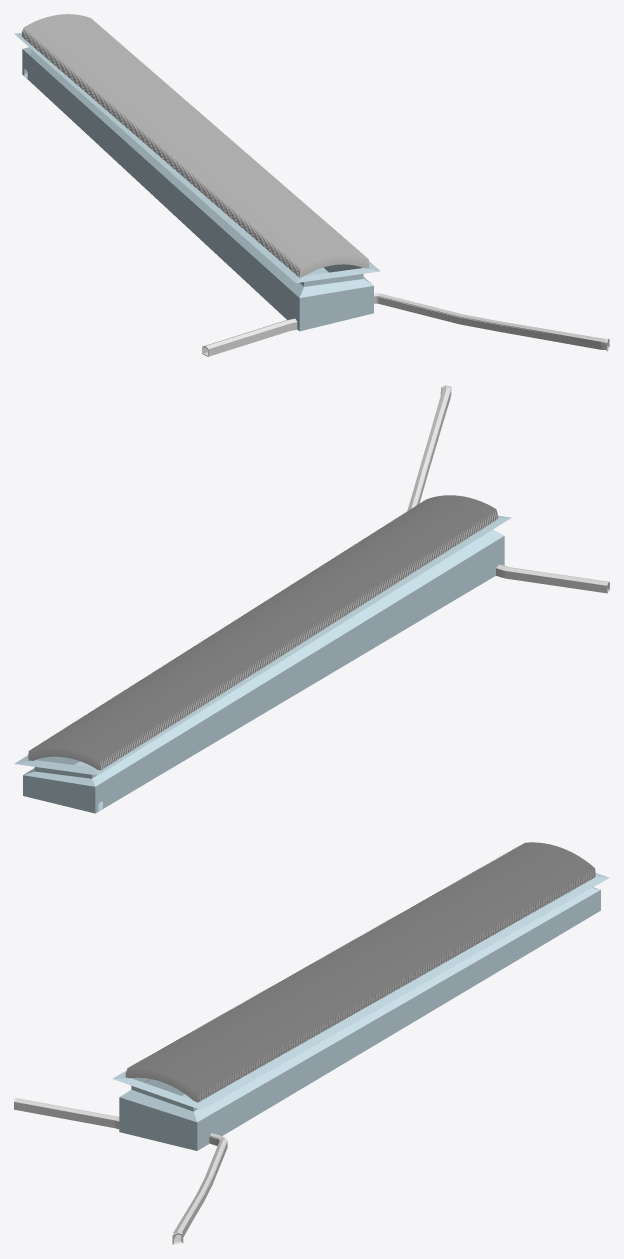
The model's file is South_Farm_Atrium.glb.
3 renders of one model, top to bottom at view 1: azimuth 30°, elevation 25°; view 2: azimuth 150°, elevation 25°; view 3: azimuth 330°, elevation 25°, orthographic. The views are drawn at different scales.
Parts seen in each view (by area): view 1: SouthLongAtrium_RadBlind, Walls, Passage-SouthAtrium-to-Teacup; view 2: SouthLongAtrium_RadBlind, Walls, Passage-SouthAtrium-to-Teacup; view 3: SouthLongAtrium_RadBlind, Walls, Passage-SouthAtrium-to-Teacup.
Part boxes in pixels (x1=…): SouthLongAtrium_RadBlind: x1=21, y1=14, x2=369, y2=277; Walls: x1=14, y1=33, x2=380, y2=331; Passage-SouthAtrium-to-Teacup: x1=202, y1=293, x2=609, y2=356; SouthLongAtrium_RadBlind: x1=28, y1=495, x2=498, y2=770; Walls: x1=14, y1=516, x2=511, y2=813; Passage-SouthAtrium-to-Teacup: x1=407, y1=385, x2=609, y2=593; SouthLongAtrium_RadBlind: x1=125, y1=842, x2=595, y2=1102; Walls: x1=112, y1=873, x2=609, y2=1150; Passage-SouthAtrium-to-Teacup: x1=14, y1=1098, x2=227, y2=1244.
Size of what is drawn, in the model's own units: 17.07 by 3.83 by 48.52.
